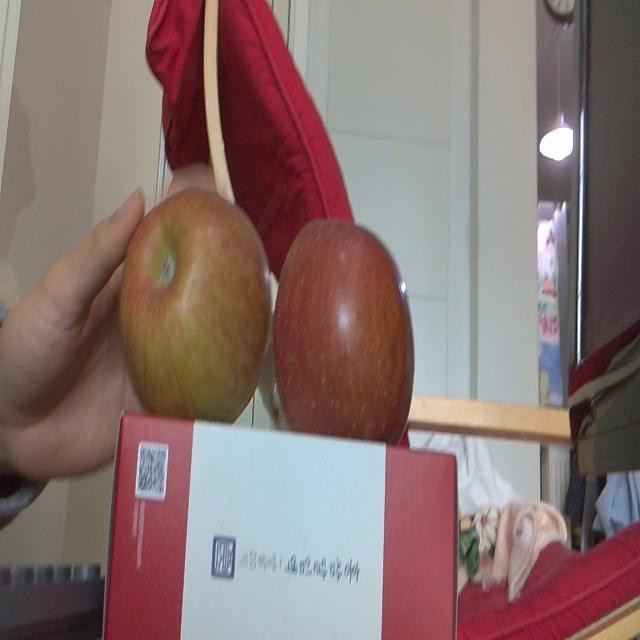apple: (116, 186, 274, 422), (273, 216, 415, 445)
